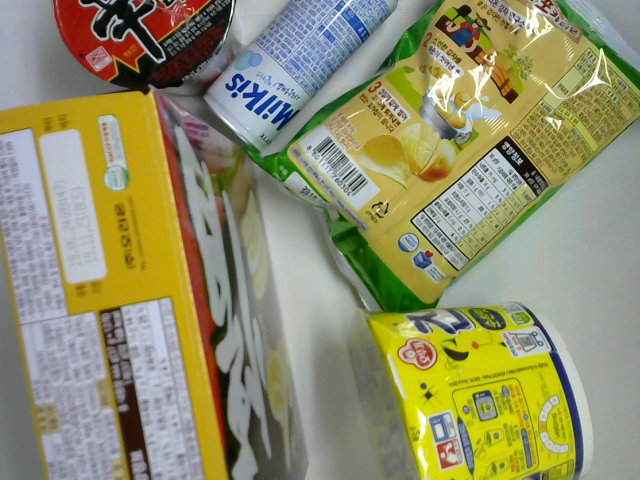Choco_Pie_Banana: (1, 85, 311, 480)
Jinlamyeon_Mild_Taste_Large_Cup: (345, 302, 596, 480)
Milkies_250ml: (200, 1, 401, 156)
Pocachip_Onion: (243, 1, 640, 315)
Sinramen_small: (54, 1, 236, 95)
